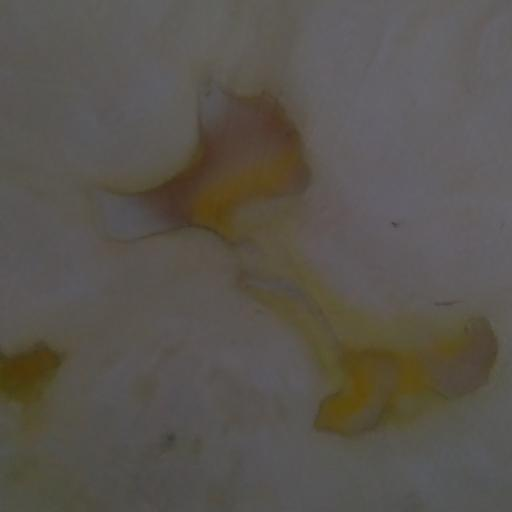algae: (99, 35, 512, 436)
